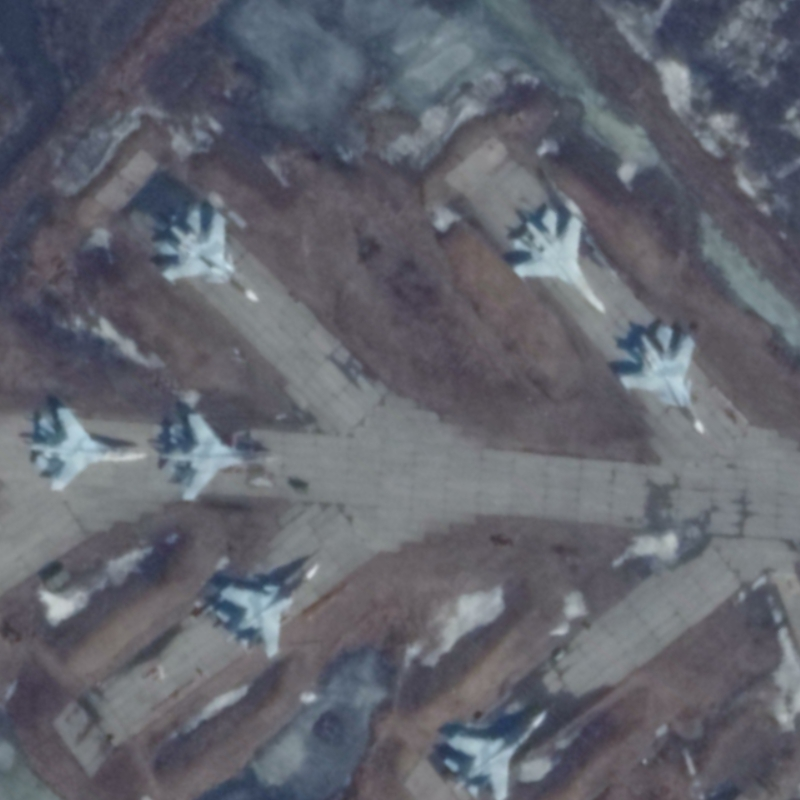A1: (155, 410, 282, 504), (27, 405, 150, 494), (510, 205, 606, 316), (440, 707, 550, 800)
A19: (154, 205, 267, 306), (211, 560, 320, 659), (618, 323, 710, 439)
